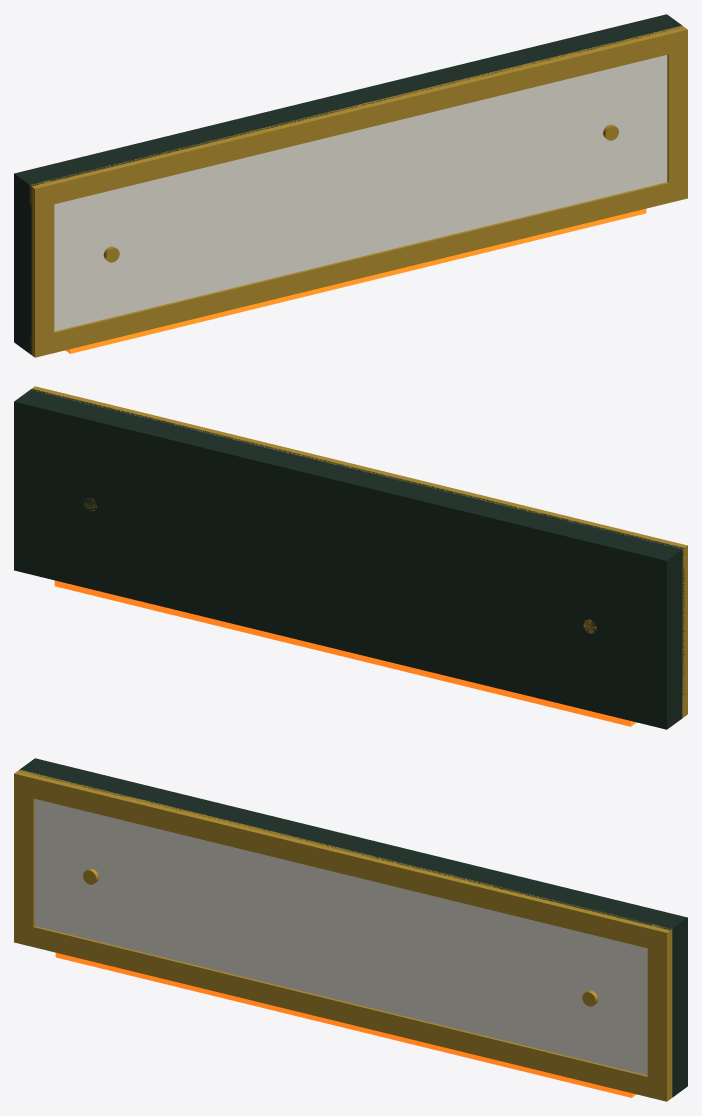
The model's file is signboard.glb.
The picture shows the model from 3 angles, top to bottom: view 1: azimuth 30°, elevation 25°; view 2: azimuth 150°, elevation 25°; view 3: azimuth 330°, elevation 25°; orthographic projection.
Parts seen in each view (by area): view 1: logo_slot, frame_top, sign_body, frame_bottom, frame_left, frame_right, under_glow; view 2: sign_body, under_glow, frame_top, frame_left; view 3: logo_slot, frame_top, frame_bottom, sign_body, frame_right, under_glow, frame_left.
Part boxes in pixels (bbox=[...]): logo_slot: bbox=[54, 55, 667, 331]; frame_top: bbox=[29, 25, 687, 208]; sign_body: bbox=[14, 14, 681, 354]; frame_bottom: bbox=[29, 178, 687, 357]; frame_left: bbox=[31, 180, 54, 357]; frame_right: bbox=[667, 26, 687, 202]; under_glow: bbox=[65, 208, 646, 353]; sign_body: bbox=[14, 389, 684, 729]; under_glow: bbox=[54, 580, 636, 726]; frame_top: bbox=[31, 386, 687, 568]; frame_left: bbox=[679, 548, 687, 698]; logo_slot: bbox=[34, 799, 647, 1075]; frame_top: bbox=[14, 770, 672, 952]; frame_bottom: bbox=[14, 922, 672, 1101]; sign_body: bbox=[19, 758, 687, 1097]; frame_right: bbox=[647, 924, 672, 1101]; under_glow: bbox=[55, 952, 636, 1097]; frame_left: bbox=[14, 770, 34, 944].
Size of the model in its own units: 3.4 by 0.88 by 0.2.
